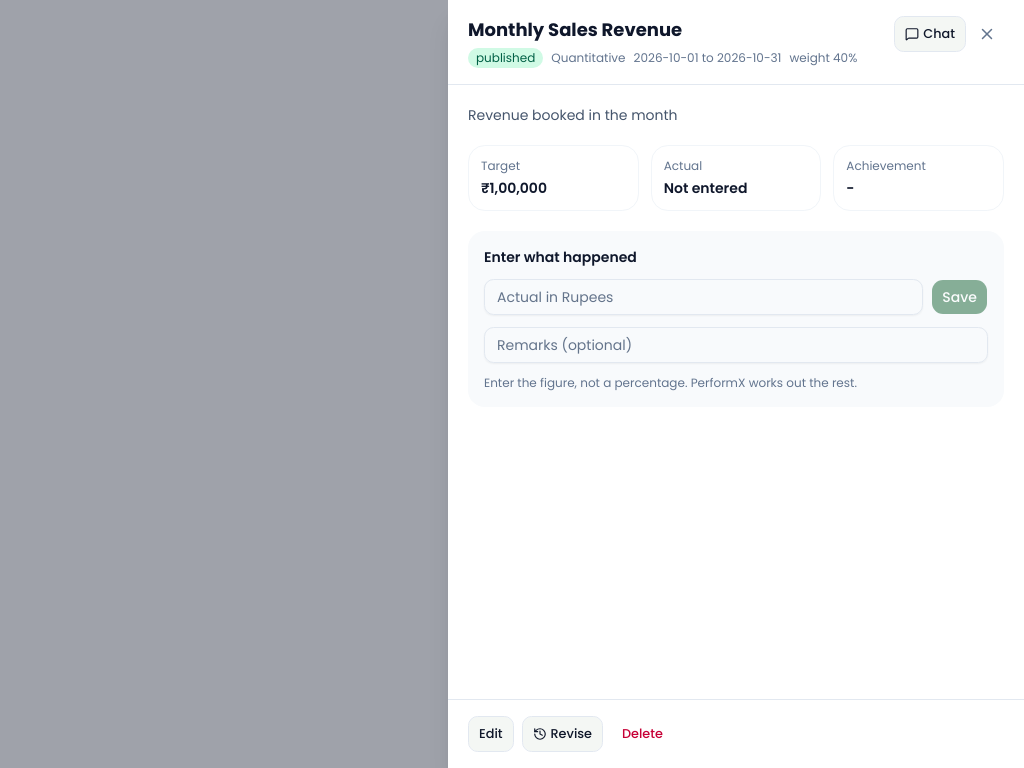
Test: KpiDetailSheet revise › keeps the dialog open and shows the server's refusal
Click the button "Revise" at (562, 734), box [522,716,603,752]
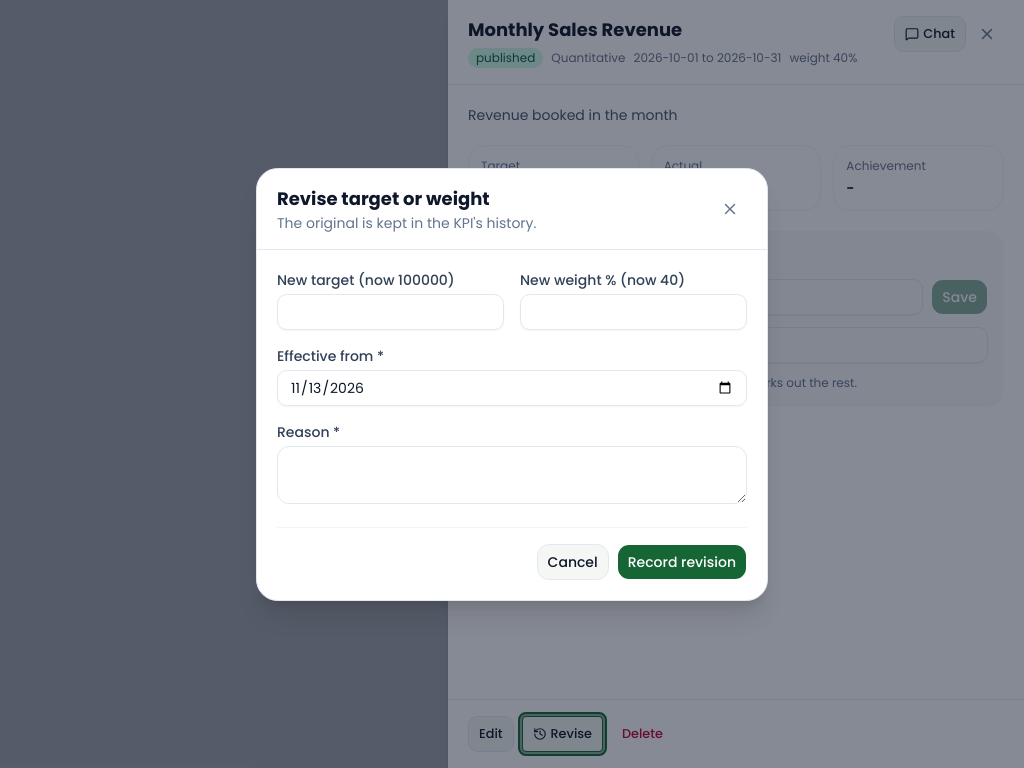
Type "30" into the number field labelled "New weight % (now 40)" at (634, 312), box [520,294,747,330]
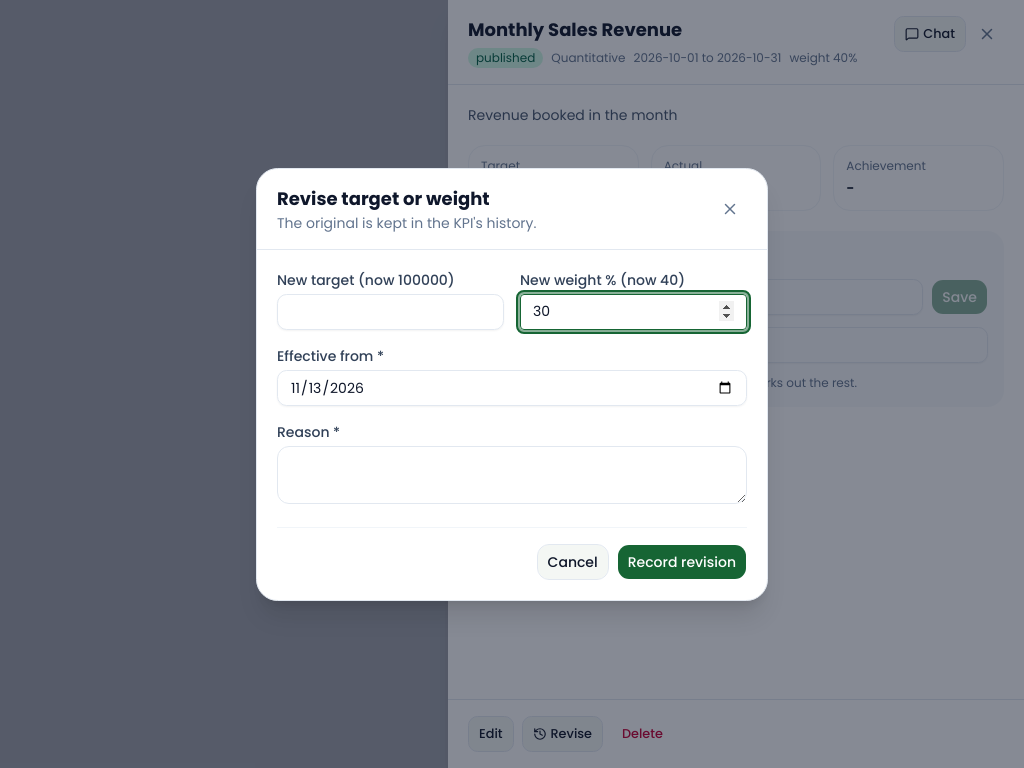
Type "Rebalanced" into the text box labelled "Reason *" at (512, 474), box [277,446,747,504]
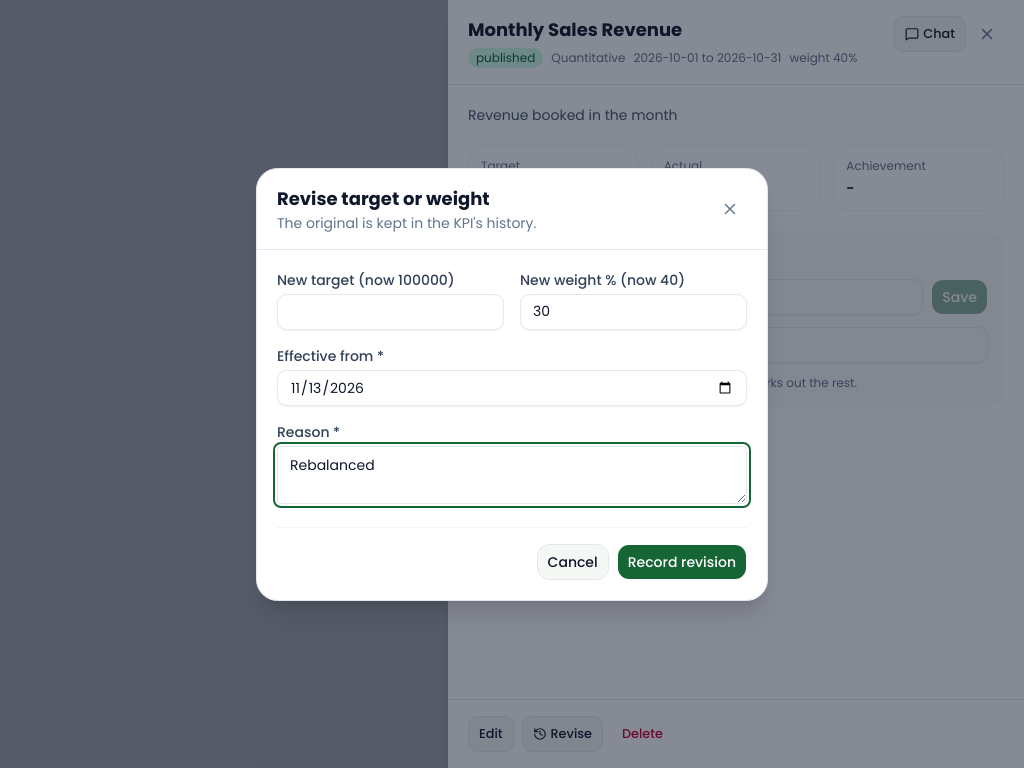
Click the button "Record revision" at (682, 562), box [617,544,747,580]
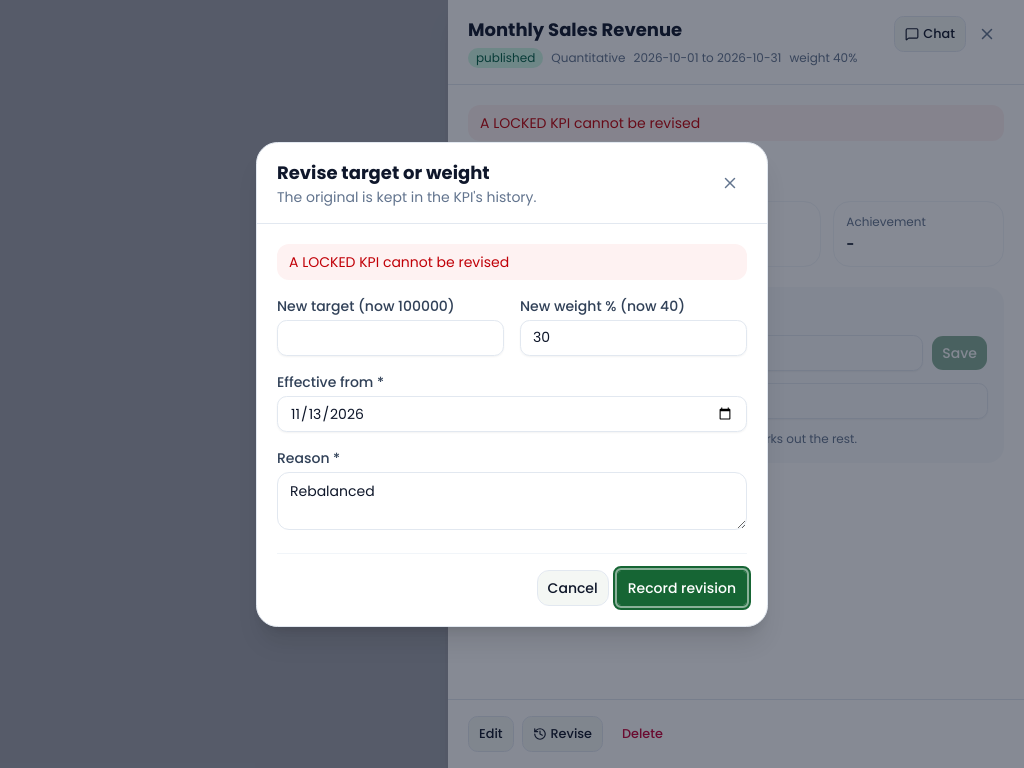
expect the dialog named "Revise KPI" is shown: met
expect the message reads "A LOCKED KPI cannot be revised": met, box [289,252,509,272]
